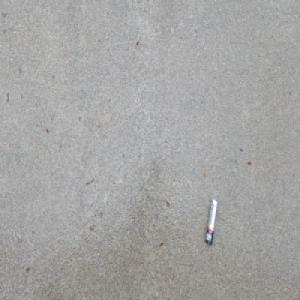Battery: (204, 197, 218, 246)
